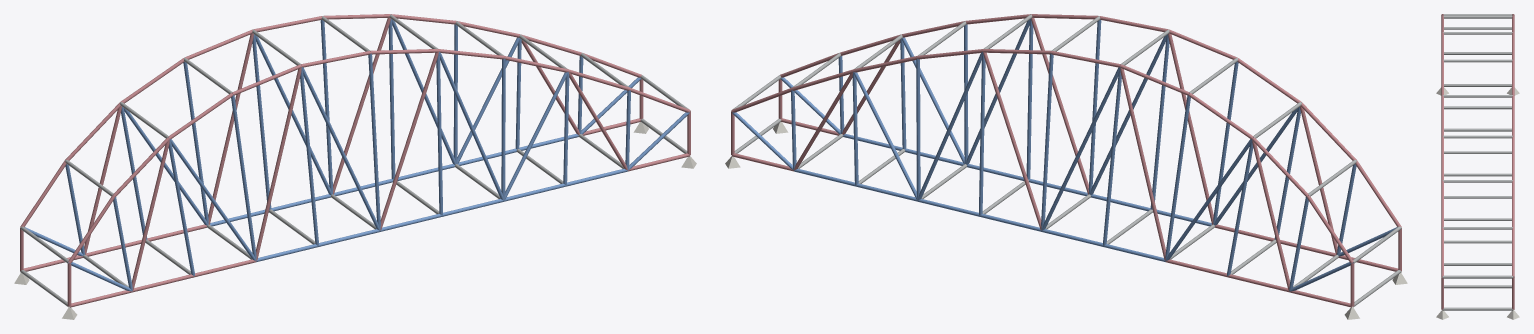
The model's file is bridge-force-sign-model.glb.
The picture shows the model from 3 angles, left to right: view 1: azimuth 30°, elevation 25°; view 2: azimuth 150°, elevation 25°; view 3: azimuth 270°, elevation 25°; orthographic projection. The views are drawn at different scales.
Visible parts, largest first — view 1: Members/M013_compression, Members/M015_compression, Members/M054_compression, Members/M014_tension, Members/M024_tension, Members/M025_tension, Members/M056_compression, Members/M023_tension, Members/M065_tension, Members/M026_tension, Members/M066_tension, Members/M016_tension (+17 smaller); view 2: Members/M054_compression, Members/M056_compression, Members/M013_compression, Members/M055_tension, Members/M065_tension, Members/M066_tension, Members/M015_compression, Members/M064_tension, Members/M024_tension, Members/M067_tension, Members/M025_tension, Members/M057_tension (+17 smaller); view 3: Members/M103_tension, Members/M092_tension, Members/M100_tension, Members/M098_tension, Members/M096_tension, Members/M091_tension, Members/M089_compression, Members/M086_compression, Members/M084_compression, Members/M083_tension, Members/M102_compression, Members/M101_compression (+26 smaller).
Boxes of the visible parts, x1,y1,x2,y2 form: Members/M013_compression: (256,67,301,260); Members/M015_compression: (380,52,438,230); Members/M054_compression: (208,33,253,224); Members/M014_tension: (302,67,380,230); Members/M024_tension: (300,67,318,245); Members/M025_tension: (368,53,380,229); Members/M056_compression: (333,17,390,194); Members/M023_tension: (231,93,256,260); Members/M065_tension: (252,34,271,209); Members/M026_tension: (436,52,442,215); Members/M066_tension: (320,20,333,194); Members/M016_tension: (439,52,503,200); Members/M054_compression: (1120,67,1165,260); Members/M056_compression: (983,52,1041,230); Members/M013_compression: (1168,33,1213,224); Members/M055_tension: (1041,67,1119,230); Members/M065_tension: (1103,67,1121,245); Members/M066_tension: (1041,53,1053,229); Members/M015_compression: (1031,17,1088,194); Members/M064_tension: (1165,93,1190,260); Members/M024_tension: (1150,34,1169,209); Members/M067_tension: (979,52,985,215); Members/M025_tension: (1088,20,1101,194); Members/M057_tension: (918,52,982,200); Members/M103_tension: (1442,275,1513,278); Members/M092_tension: (1442,307,1513,310); Members/M100_tension: (1443,135,1512,138); Members/M098_tension: (1443,59,1512,62); Members/M096_tension: (1443,15,1512,18); Members/M091_tension: (1444,285,1511,288); Members/M089_compression: (1444,240,1511,243); Members/M086_compression: (1444,173,1511,176); Members/M084_compression: (1444,128,1511,131); Members/M083_tension: (1444,106,1511,109); Members/M102_compression: (1443,227,1512,229); Members/M101_compression: (1443,180,1512,182).
Bounding box in the file's own units: 30.76 × 9.06 × 4.76.
